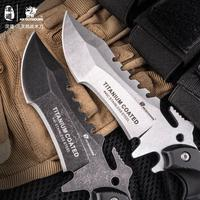knife: (19, 9, 184, 183)
